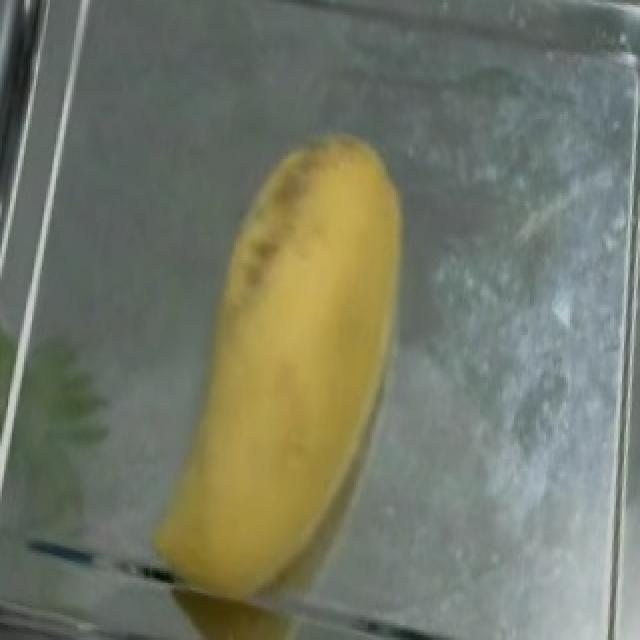fruit: (194, 111, 428, 484)
